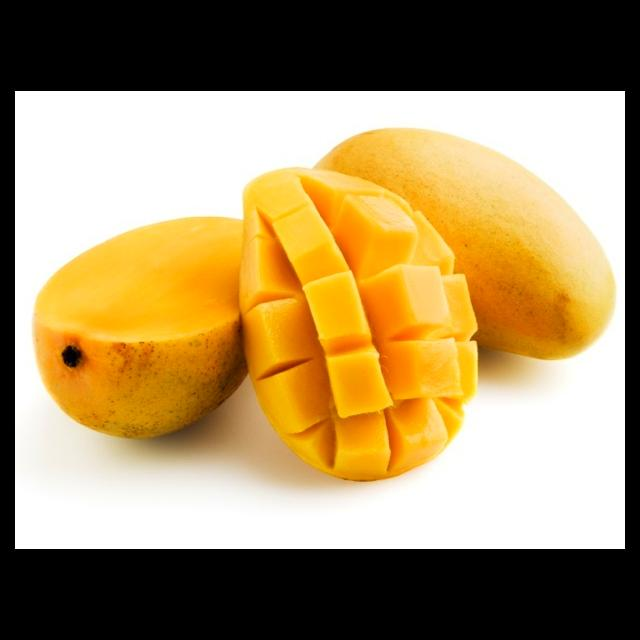mango: (237, 165, 477, 484), (310, 127, 616, 365), (33, 211, 253, 438)
